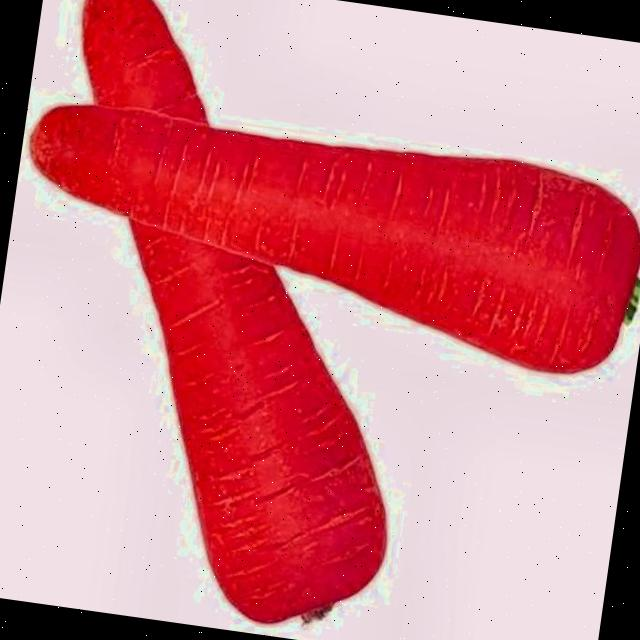carrot: (78, 0, 384, 623), (30, 104, 640, 372)
